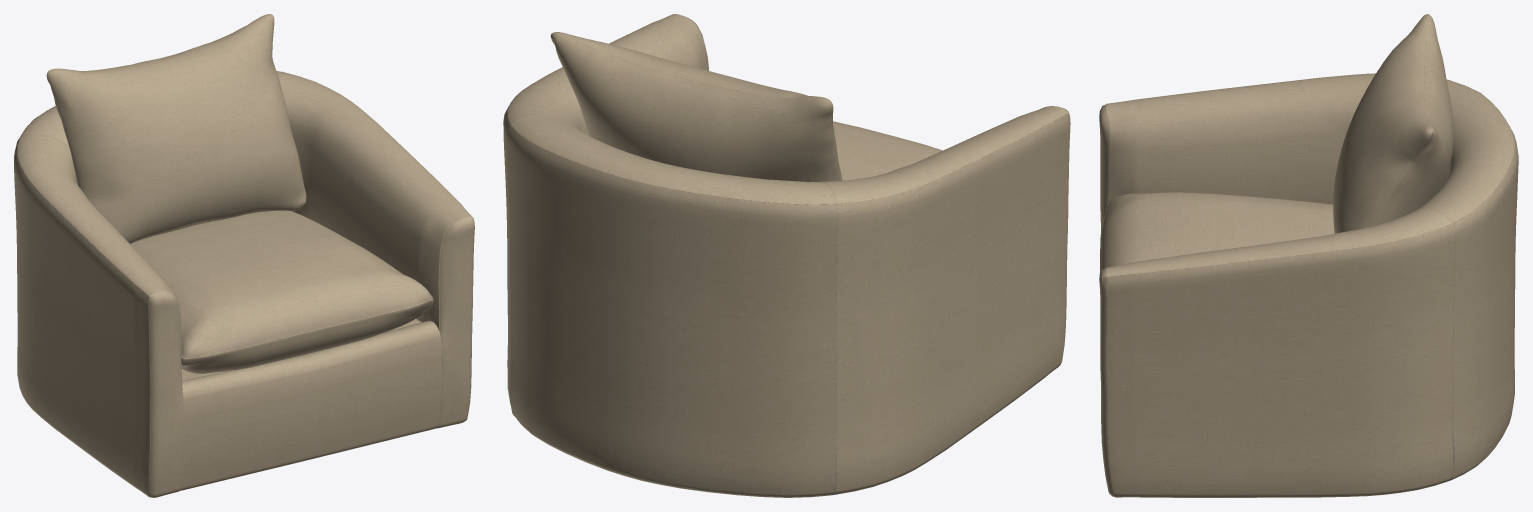
The model's file is abo-B0853VY3JP.glb.
The picture shows the model from 3 angles, left to right: view 1: azimuth 30°, elevation 25°; view 2: azimuth 150°, elevation 25°; view 3: azimuth 270°, elevation 25°; orthographic projection. The views are drawn at different scales.
Size of the model in its own units: 0.91 by 0.848 by 0.91.
Materials: 1 (1 with a texture image).
